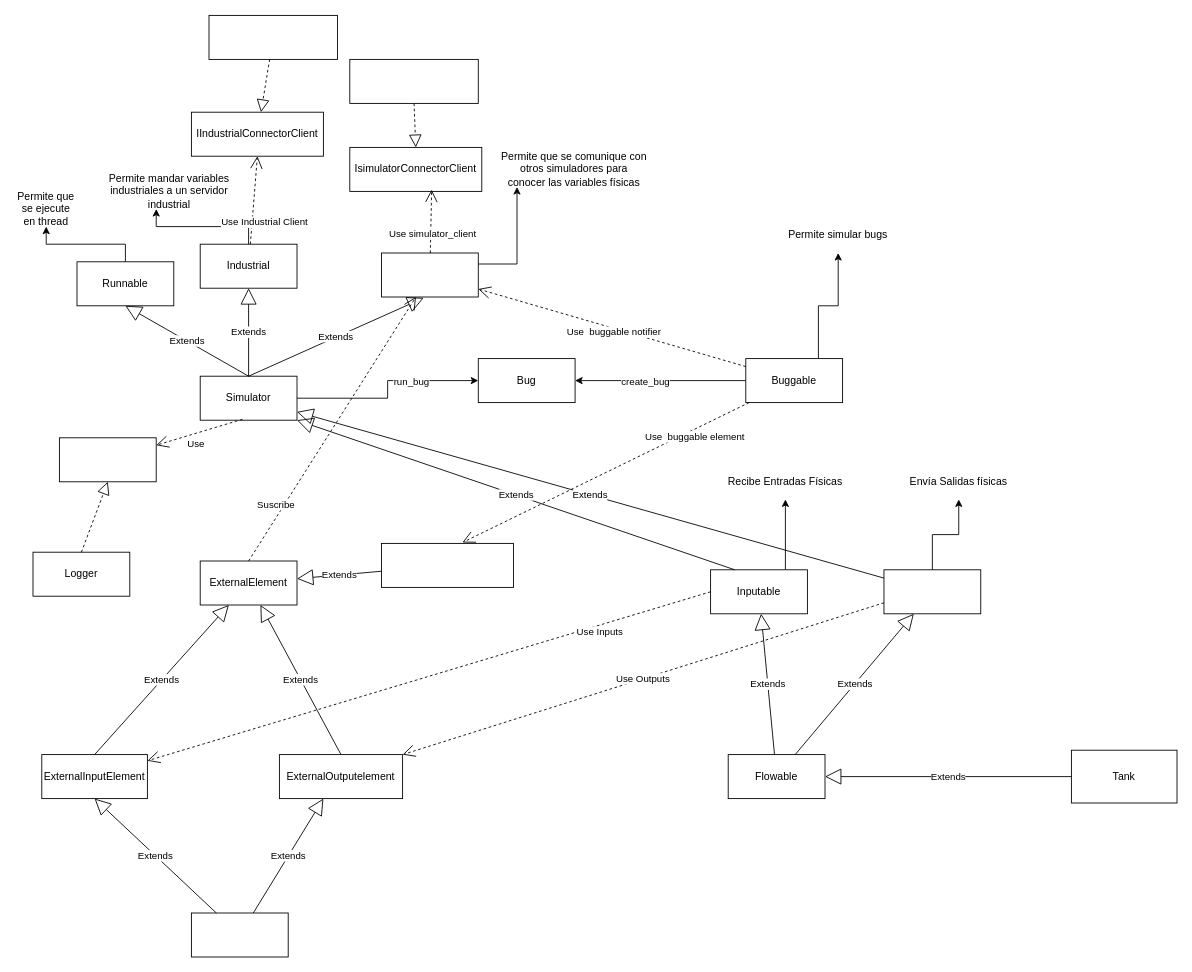
The diagram is 1192 pixels wide and 972 high, and some of its shapes have lost their labels. Here are the shapes that lost their labels. From the top down, the centre of each, then its label:
At point 272,37: "industrialModbusClient".
At point 413,81: "SimulatorMQTTClient".
At point 429,274: "Notifier".
At point 107,459: "ILogger".
At point 447,565: "ExternalBugginelement".
At point 932,591: "Outputable".
At point 239,934: "ExternalIOElement".
